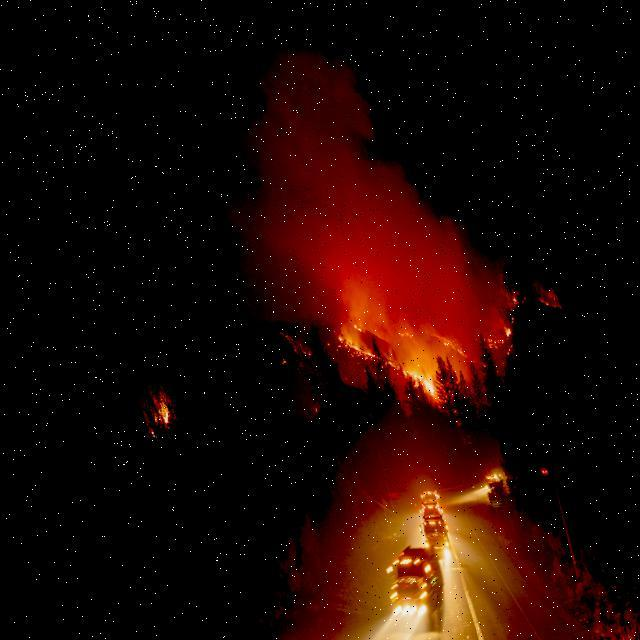Fire: (318, 322, 456, 412), (458, 286, 558, 358), (116, 388, 166, 438)
